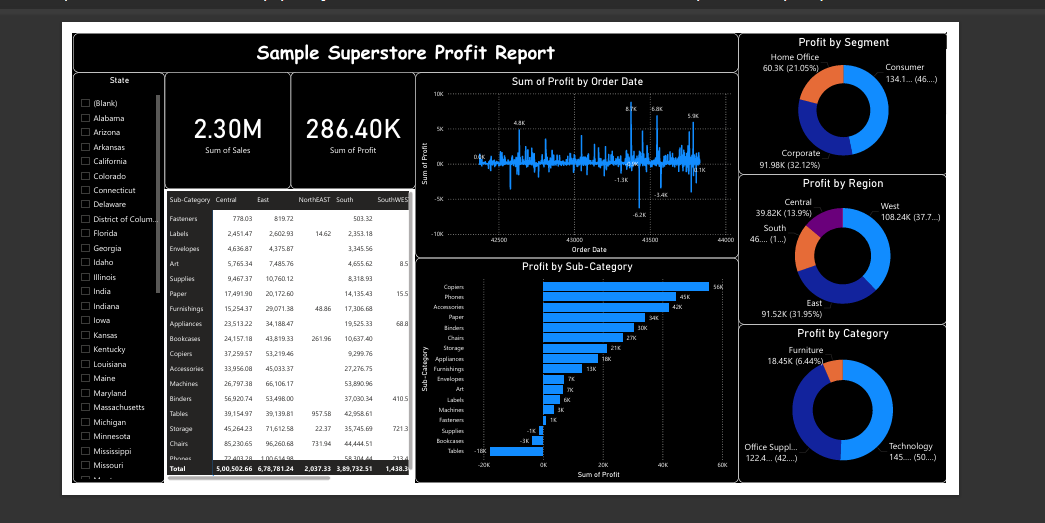

What the dashboard file says about the page in this screenshot:
{"tool":"powerbi","page":{"name":"Page 1","canvas":[1750,900],"ordinal":0},"visuals":[{"type":"textbox","box":[0,0,1332.9,78.6],"z":0},{"type":"donutChart","title":"Profit by Category","fields":{"Category":["Orders.Category"],"Y":["Sum(Orders.Profit)"]},"box":[1332.9,582.9,417.1,317.1],"z":1000},{"type":"donutChart","title":"Profit by Segment","fields":{"Y":["Sum(Orders.Profit)"],"Category":["Orders.Segment"]},"box":[1332.9,0,420,282.9],"z":2000},{"type":"donutChart","title":"Profit by Region","fields":{"Y":["Sum(Orders.Profit)"],"Category":["Orders.Region"]},"box":[1332.9,282.9,417.1,300],"z":3000},{"type":"barChart","title":"Profit by Sub-Category","fields":{"Category":["Orders.Sub-Category"],"Y":["Sum(Orders.Profit)"]},"box":[685.7,450,647.1,450],"z":4000},{"type":"lineChart","fields":{"Category":["Orders.Order Date"],"Y":["Sum(Orders.Profit)"]},"box":[685.7,78.6,647.1,371.4],"z":5000},{"type":"slicer","title":"State","fields":{"Values":["Orders.State"]},"box":[0,78.6,184.3,821.4],"z":6000},{"type":"pivotTable","fields":{"Rows":["Orders.Sub-Category"],"Columns":["Orders.Region"],"Values":["Sum(Orders.Sales)"]},"box":[184,312,502,588],"z":7000},{"type":"card","fields":{"Values":["Sum(Orders.Sales)"]},"box":[184,78,252,234],"z":8000},{"type":"card","fields":{"Values":["Sum(Orders.Profit)"]},"box":[436,78,250,234],"z":8001}]}

Visuals, with their boxes in screenshot pixels (x1, y1, x2, y2), scaled from the page's 1750x900 canvas onto the 1045x523 screenshot:
textbox: box=[0, 0, 796, 46]
"Profit by Category" donutChart: box=[796, 339, 1044, 522]
"Profit by Segment" donutChart: box=[796, 0, 1044, 164]
"Profit by Region" donutChart: box=[796, 164, 1044, 339]
"Profit by Sub-Category" barChart: box=[409, 262, 796, 522]
lineChart - Orders.Order Date x Sum(Orders.Profit): box=[409, 46, 796, 262]
"State" slicer: box=[0, 46, 110, 522]
pivotTable - Orders.Sub-Category x Orders.Region: box=[110, 181, 410, 522]
card - Sum(Orders.Sales): box=[110, 45, 260, 181]
card - Sum(Orders.Profit): box=[260, 45, 410, 181]
